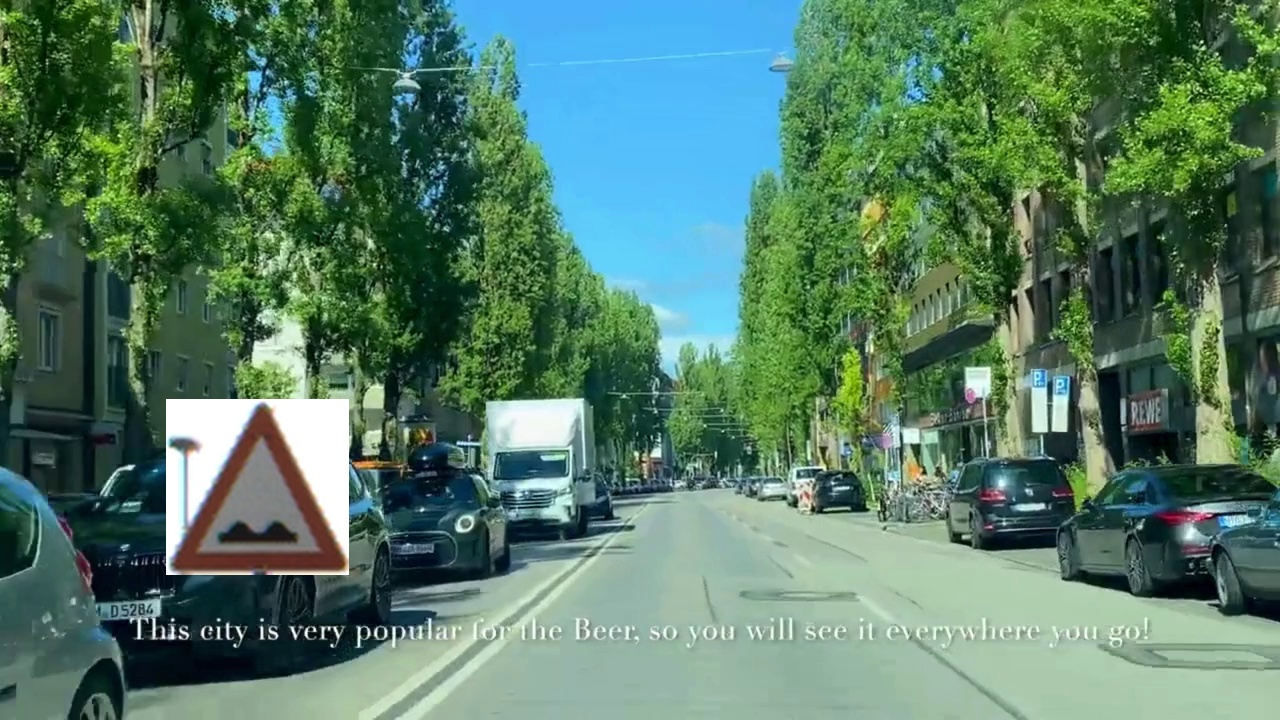Bumpy road: (166, 399, 349, 575)
